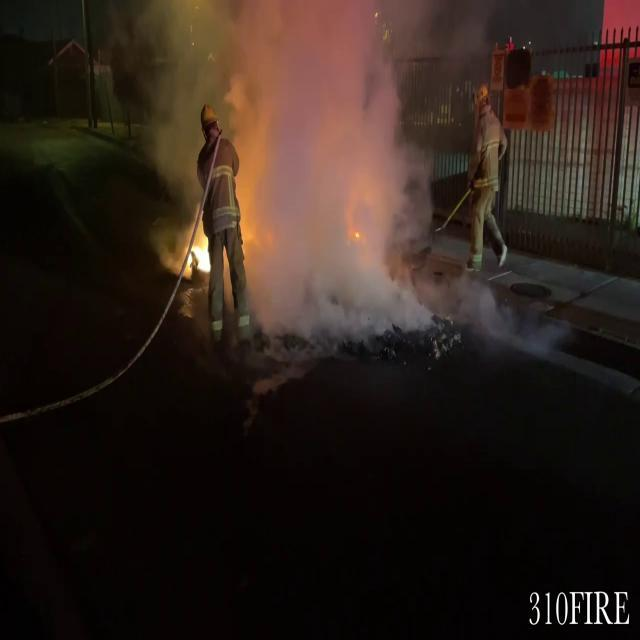Fire: (184, 220, 213, 286)
Smoke: (141, 0, 440, 350)
